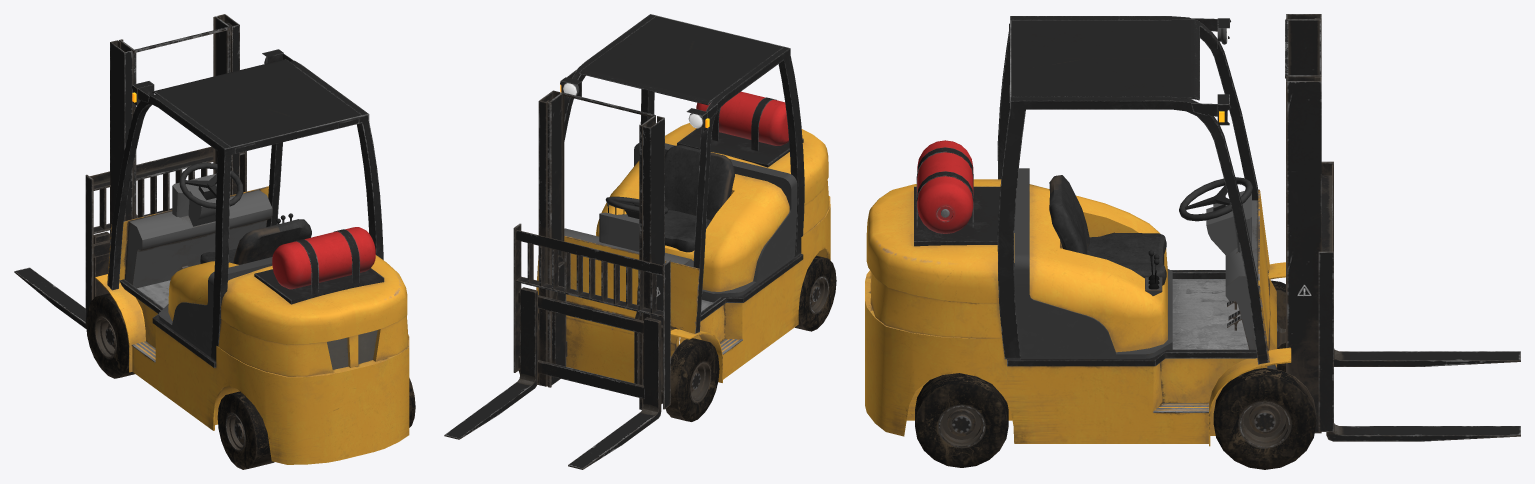
Rendered from forklift.glb.
3 views of the same model, side by side, from view 1: azimuth 30°, elevation 25°; view 2: azimuth 150°, elevation 25°; view 3: azimuth 270°, elevation 25° (orthographic). The views are drawn at different scales.
Visible parts, largest first — view 1: forklift_body_A, forklift_body_B; view 2: forklift_body_B, forklift_body_A; view 3: forklift_body_A, forklift_body_B.
Part boxes in pixels (x1,y1,x2,y2): forklift_body_A: (95,49,409,464); forklift_body_B: (14,14,415,469); forklift_body_B: (444,90,836,469); forklift_body_A: (560,14,830,382); forklift_body_A: (865,16,1291,446); forklift_body_B: (915,14,1520,469).
Size of the model in its own units: 156 by 268 by 426.
3 materials, 3 textured.
